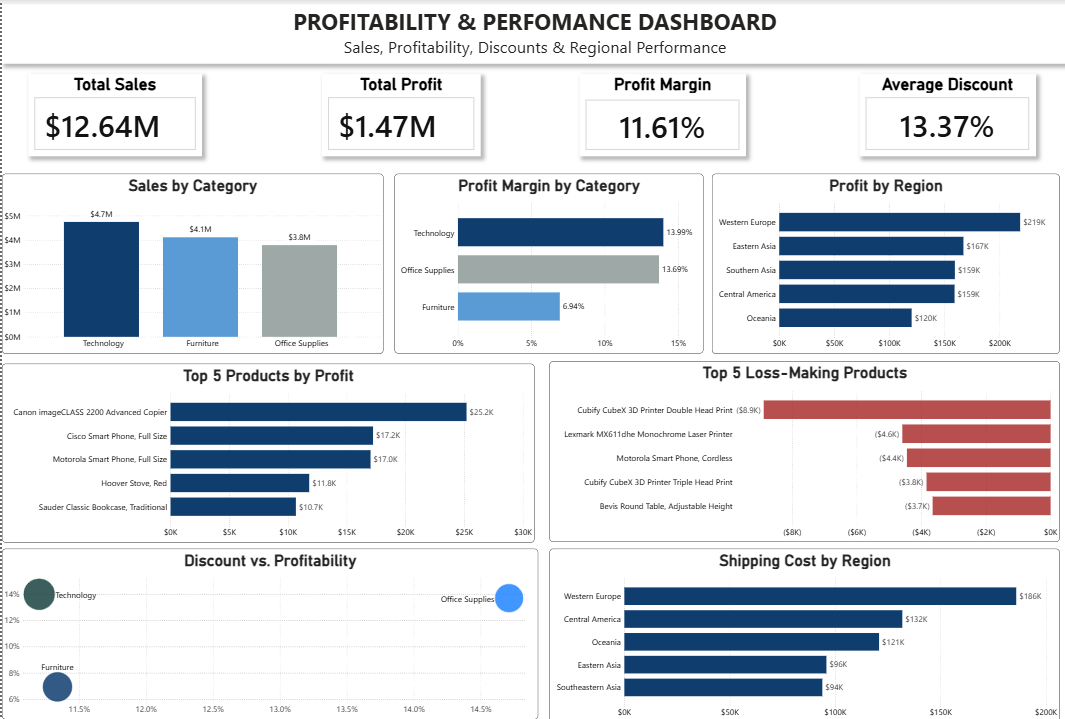

What the dashboard file says about the page in this screenshot:
{"tool":"powerbi","page":{"name":"Profitability & Performance","canvas":[2800,1900],"ordinal":1},"visuals":[{"type":"barChart","title":"Profit Margin by Category","fields":{"Category":["public superstore.category"],"Y":["public superstore.Profit Margin"]},"box":[1030,456.3,811,472],"z":0},{"type":"clusteredBarChart","title":"Top 5 Products by Profit","fields":{"Category":["public superstore.product_name"],"Y":["Sum(public superstore.profit)"]},"box":[0,955.3,1398.4,469.4],"z":1000},{"type":"clusteredBarChart","title":"Top 5 Loss-Making Products","fields":{"Category":["public superstore.product_name"],"Y":["Sum(public superstore.profit)"]},"box":[1436.8,949.2,1340.3,474.6],"z":2000},{"type":"clusteredBarChart","title":"Profit by Region","fields":{"Category":["public superstore.region"],"Y":["Sum(public superstore.profit)"]},"box":[1864.6,456.3,912.6,472.7],"z":3000},{"type":"lineClusteredColumnComboChart","title":"Sales by Category","fields":{"Category":["public superstore.category"],"Y":["Sum(public superstore.sales)"]},"box":[0,456.3,1001.2,472.7],"z":4000},{"type":"cardVisual","title":"Total Profit","fields":{"Data":["Sum(public superstore.profit)"]},"box":[840.4,193.7,416.9,216.7],"z":5000},{"type":"cardVisual","title":"Average Discount","fields":{"Data":["Avg(public superstore.discount)"]},"box":[2252.9,193,462.9,216.7],"z":6000},{"type":"cardVisual","title":"Total Sales","fields":{"Data":["Sum(public superstore.sales)"]},"box":[67.8,193,456.3,216.7],"z":7000},{"type":"cardVisual","title":"Profit Margin","fields":{"Data":["public superstore.Profit Margin"]},"box":[1516.6,193.7,436.6,216.7],"z":8000},{"type":"textbox","box":[0,9.8,2800.1,157.6],"z":9000},{"type":"scatterChart","title":"Discount vs. Profitability","fields":{"X":["Avg(public superstore.discount)"],"Y":["public superstore.Profit Margin"],"Size":["Sum(public superstore.sales)"],"Series":["public superstore.category"]},"box":[0,1440,1408,448],"z":10000},{"type":"clusteredBarChart","title":"Shipping Cost by Region","fields":{"Category":["public superstore.region"],"Y":["Sum(public superstore.shipping_cost)"]},"box":[1436.8,1442,1340.3,456.3],"z":11000}]}

Visuals, with their boxes in screenshot pixels (x1, y1, x2, y2), scaled from the page's 2800x1900 canvas onto the 1065x719 screenshot:
"Profit Margin by Category" barChart: (x1=392, y1=173, x2=700, y2=351)
"Top 5 Products by Profit" clusteredBarChart: (x1=0, y1=362, x2=532, y2=539)
"Top 5 Loss-Making Products" clusteredBarChart: (x1=546, y1=359, x2=1056, y2=539)
"Profit by Region" clusteredBarChart: (x1=709, y1=173, x2=1056, y2=352)
"Sales by Category" lineClusteredColumnComboChart: (x1=0, y1=173, x2=381, y2=352)
"Total Profit" cardVisual: (x1=320, y1=73, x2=478, y2=155)
"Average Discount" cardVisual: (x1=857, y1=73, x2=1033, y2=155)
"Total Sales" cardVisual: (x1=26, y1=73, x2=199, y2=155)
"Profit Margin" cardVisual: (x1=577, y1=73, x2=743, y2=155)
textbox: (x1=0, y1=4, x2=1064, y2=63)
"Discount vs. Profitability" scatterChart: (x1=0, y1=545, x2=536, y2=714)
"Shipping Cost by Region" clusteredBarChart: (x1=546, y1=546, x2=1056, y2=718)
